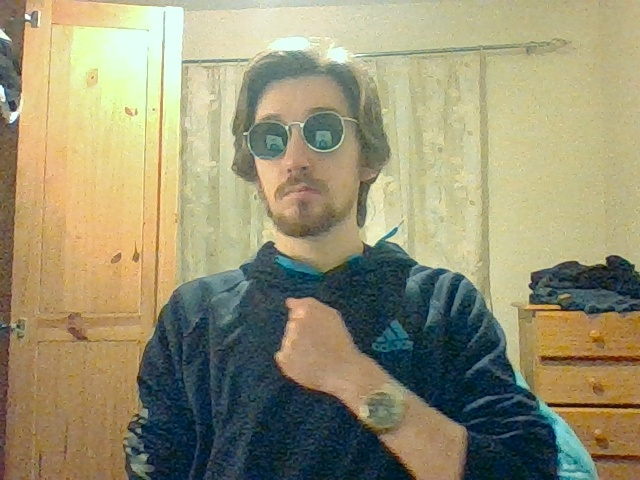my: (275, 296, 355, 390)
